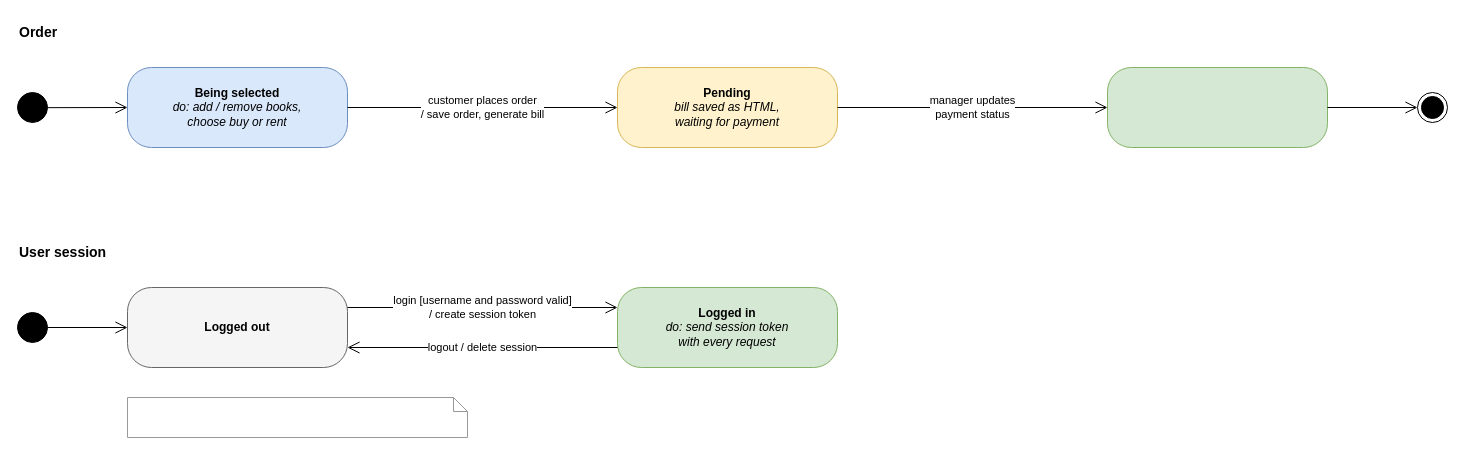
This 1465x455 diagram has some shape labels left out. Each missing label, with the centre of its shape:
"login [not valid] / show error: the user stays Logged out." belongs at [297,417].
"Paid" belongs at [1217,107].
